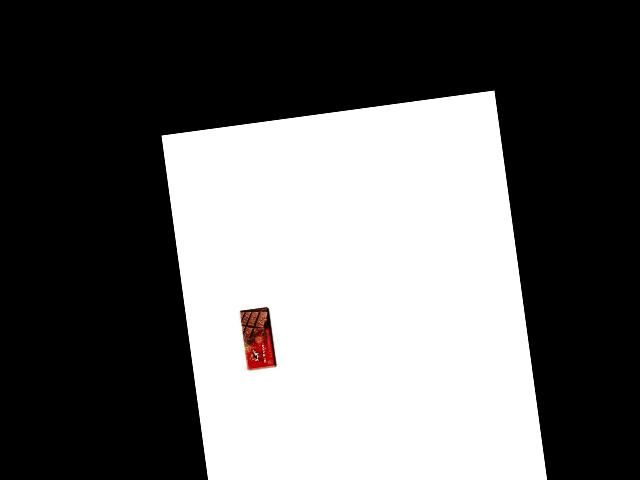chocolate: (238, 305, 277, 371)
